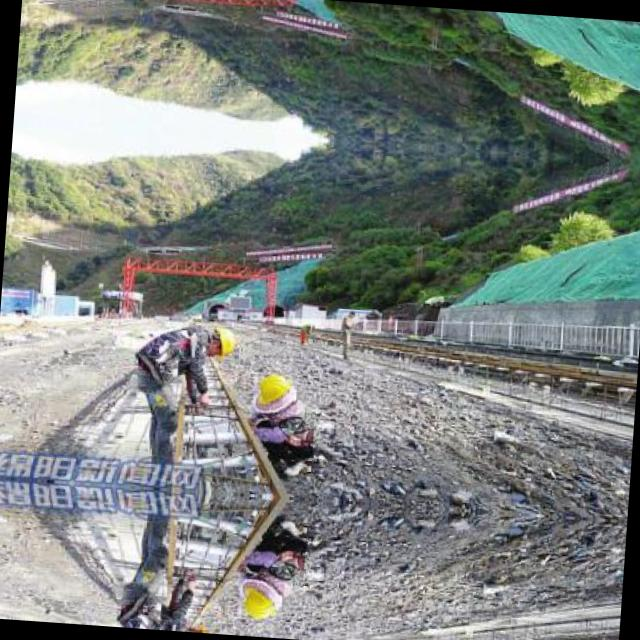helmet: (252, 368, 295, 414), (238, 578, 280, 624), (198, 324, 238, 364), (180, 620, 219, 630)
